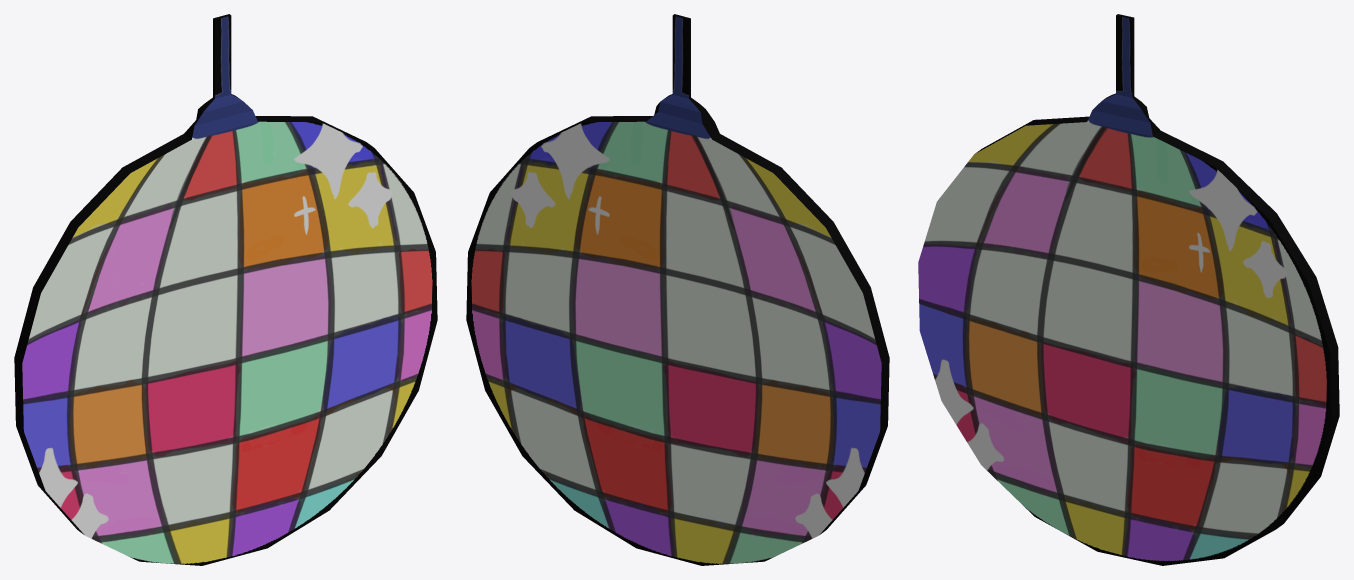
Rendered from Model_discobal.fbx.
The picture shows the model from 3 angles, left to right: view 1: azimuth 30°, elevation 25°; view 2: azimuth 150°, elevation 25°; view 3: azimuth 330°, elevation 25°; orthographic projection.
Visible parts, largest first — view 1: pCylinder1; view 2: pCylinder1; view 3: pCylinder1.
Boxes of the visible parts, x1,y1,x2,y2 form: pCylinder1: (14, 14, 437, 565); pCylinder1: (466, 14, 889, 565); pCylinder1: (918, 14, 1339, 565).
Bounding box in the file's own units: 6.73 × 8.36 × 0.224.
Materials: 1 (1 with a texture image).
